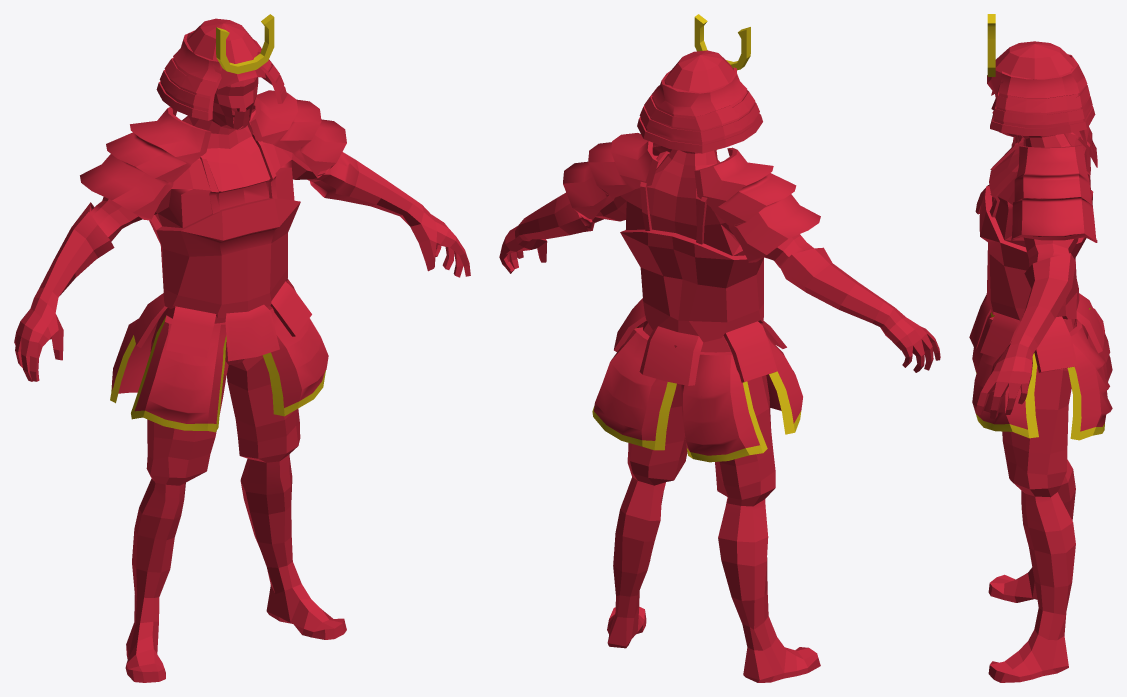
Rendered from Low-poly_Samurai.glb.
The picture shows the model from 3 angles, left to right: view 1: azimuth 30°, elevation 25°; view 2: azimuth 150°, elevation 25°; view 3: azimuth 270°, elevation 25°; orthographic projection. The views are drawn at different scales.
Visible parts, largest first — view 1: Samurai_Secondary_0, Samurai_Main_0, Samurai_Accessories_0, Samurai_Gold_0, Samurai_Skin_0; view 2: Samurai_Secondary_0, Samurai_Main_0, Samurai_Accessories_0, Samurai_Gold_0; view 3: Samurai_Secondary_0, Samurai_Main_0, Samurai_Accessories_0, Samurai_Gold_0, Samurai_Sandle_0, Samurai_Skin_0.
Boxes of the visible parts, x1,y1,x2,y2 form: Samurai_Secondary_0: (14,18,470,624); Samurai_Main_0: (34,108,423,678); Samurai_Accessories_0: (120,57,334,413); Samurai_Gold_0: (110,14,325,432); Samurai_Skin_0: (189,77,258,134); Samurai_Secondary_0: (499,50,940,650); Samurai_Main_0: (518,154,894,680); Samurai_Accessories_0: (589,90,786,445); Samurai_Gold_0: (592,14,801,462); Samurai_Secondary_0: (970,41,1112,640); Samurai_Main_0: (989,132,1086,678); Samurai_Accessories_0: (969,84,1109,415); Samurai_Gold_0: (976,14,1104,440); Samurai_Sandle_0: (988,589,1068,682); Samurai_Skin_0: (991,94,1068,147).
Size of the model in its own units: 167 by 231 by 49.33.
